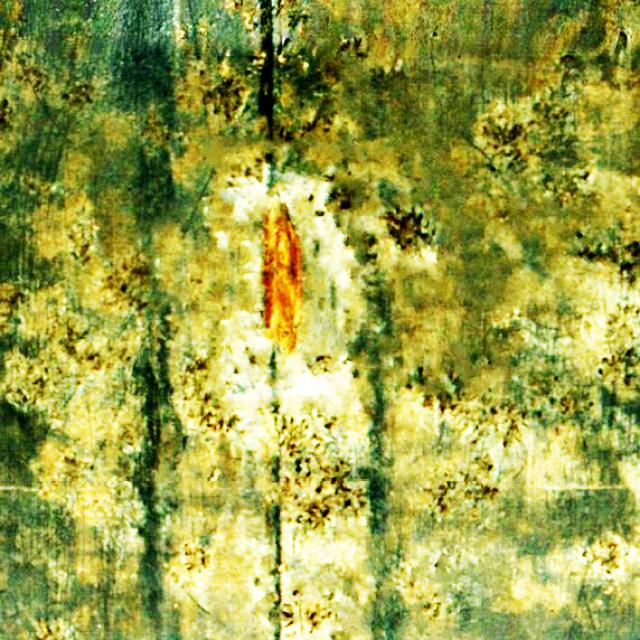Corrosion: (260, 194, 304, 351)
